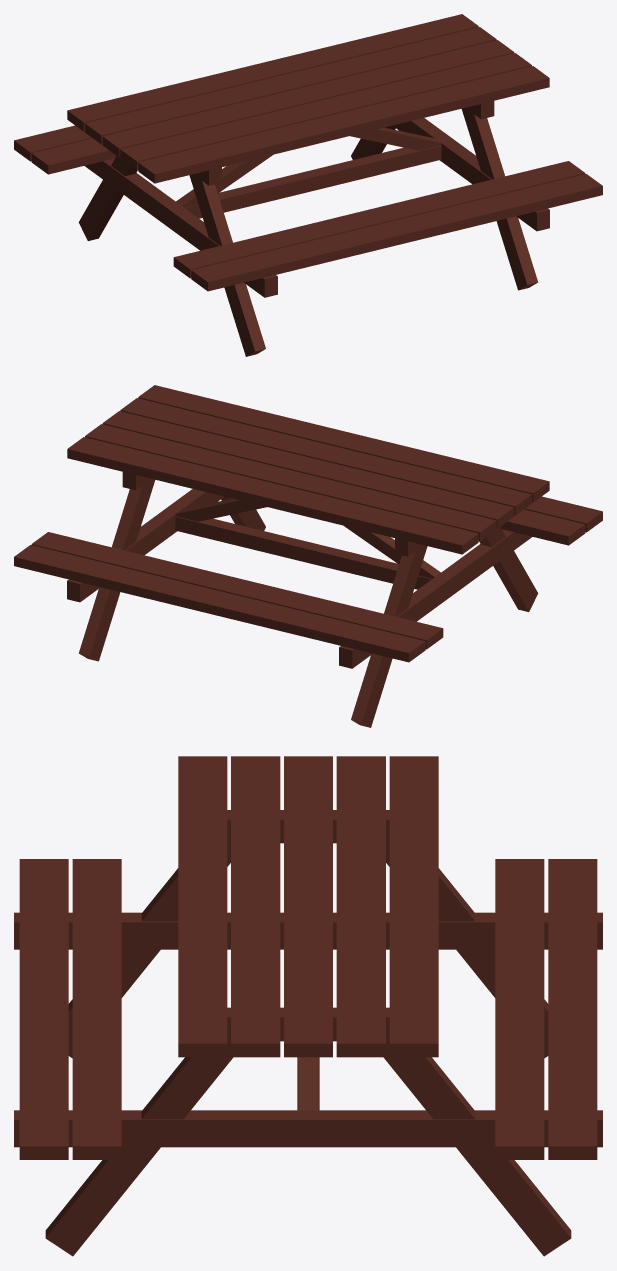
File: picnic-table.glb
3 renders of one model, top to bottom at view 1: azimuth 30°, elevation 25°; view 2: azimuth 150°, elevation 25°; view 3: azimuth 270°, elevation 25°, orthographic. The views are drawn at different scales.
Visible parts, largest first — view 1: table; view 2: table; view 3: table.
Boxes of the visible parts, x1,y1,x2,y2 form: table: (14,14,602,356); table: (14,385,602,727); table: (14,756,602,1256).
Size of the model in its own units: 1.8 by 0.7415 by 1.56.
